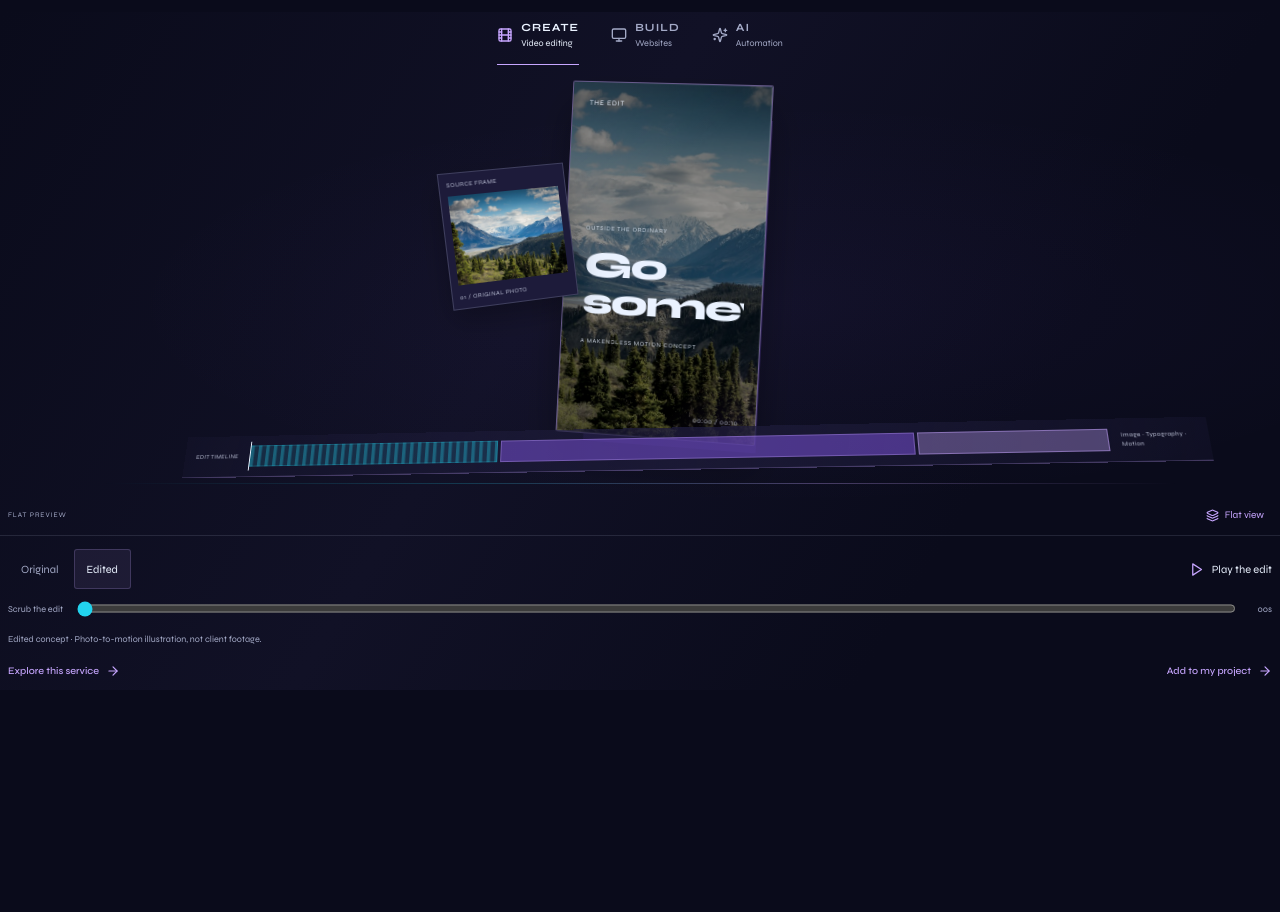
Living Showcase: service-led interactions and fallbacks › plays, pauses and scrubs a photo-to-motion concept without claiming client footage
Click the button with aria-label "Play motion preview" at (1224, 569), box [1177,549,1272,589]
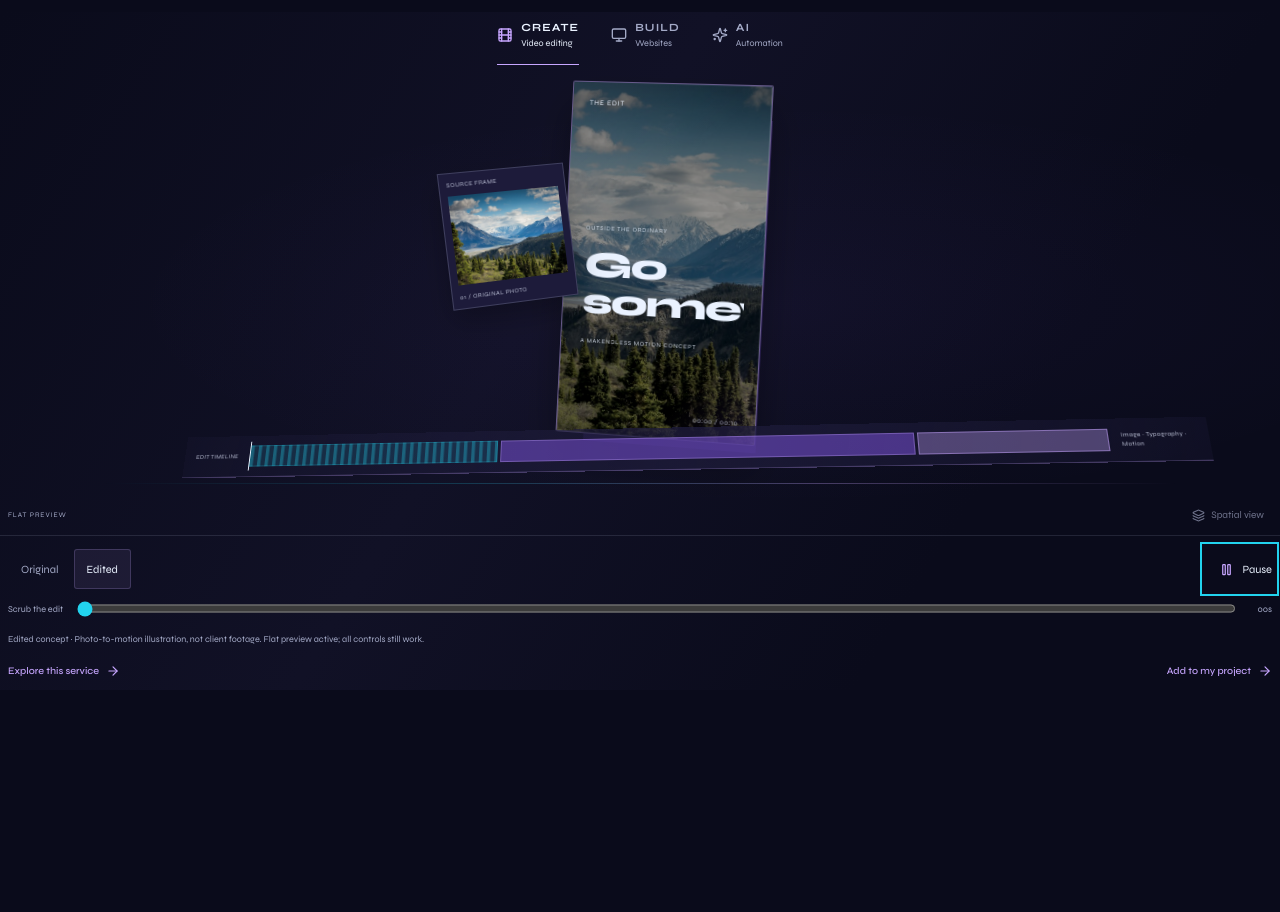
Expected: the button with aria-label "Pause motion preview" is shown
Click the button with aria-label "Pause motion preview" at (1240, 569), box [1208,549,1272,589]
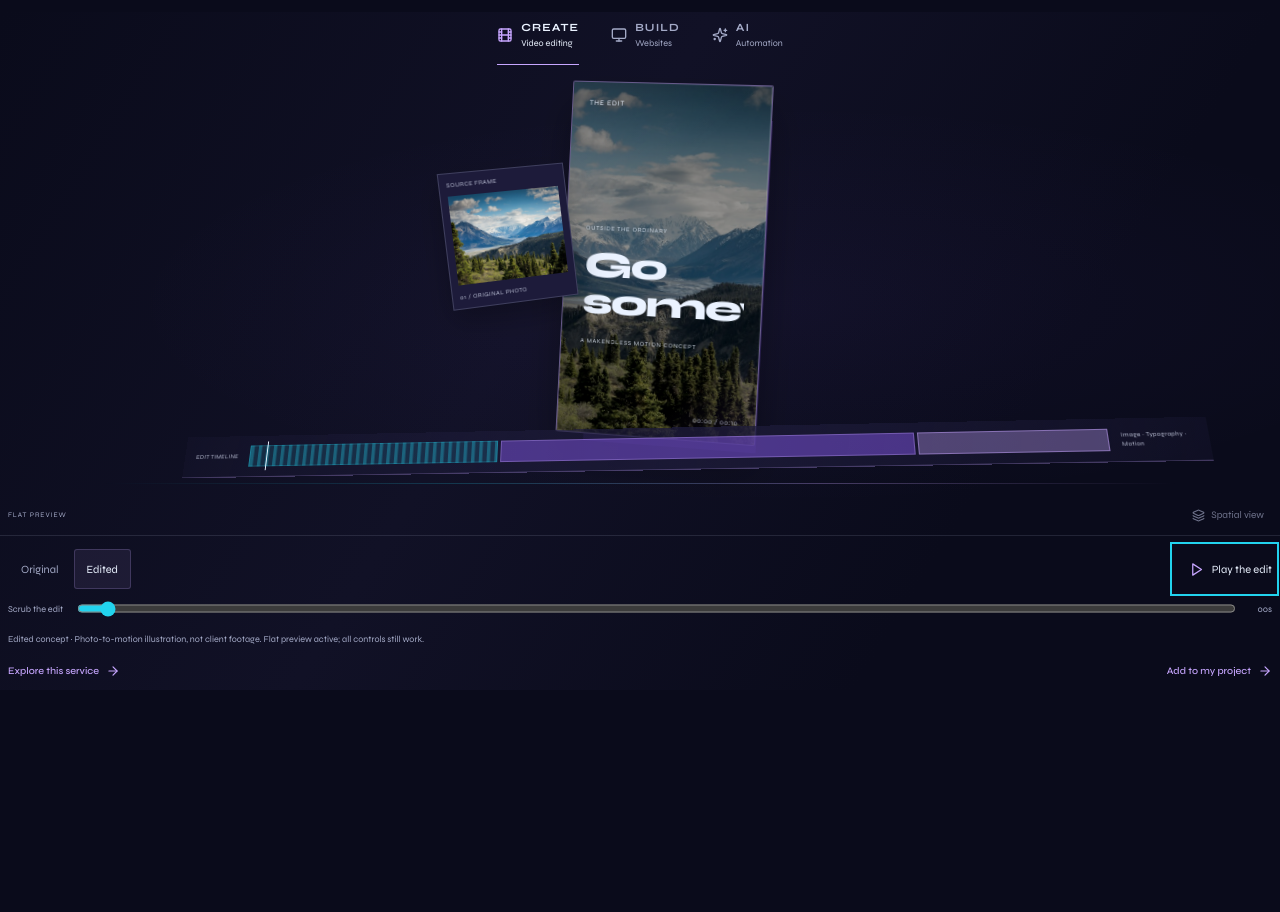
Set the slider named "Edit timeline" to "50" at (657, 608), box [77,596,1236,621]
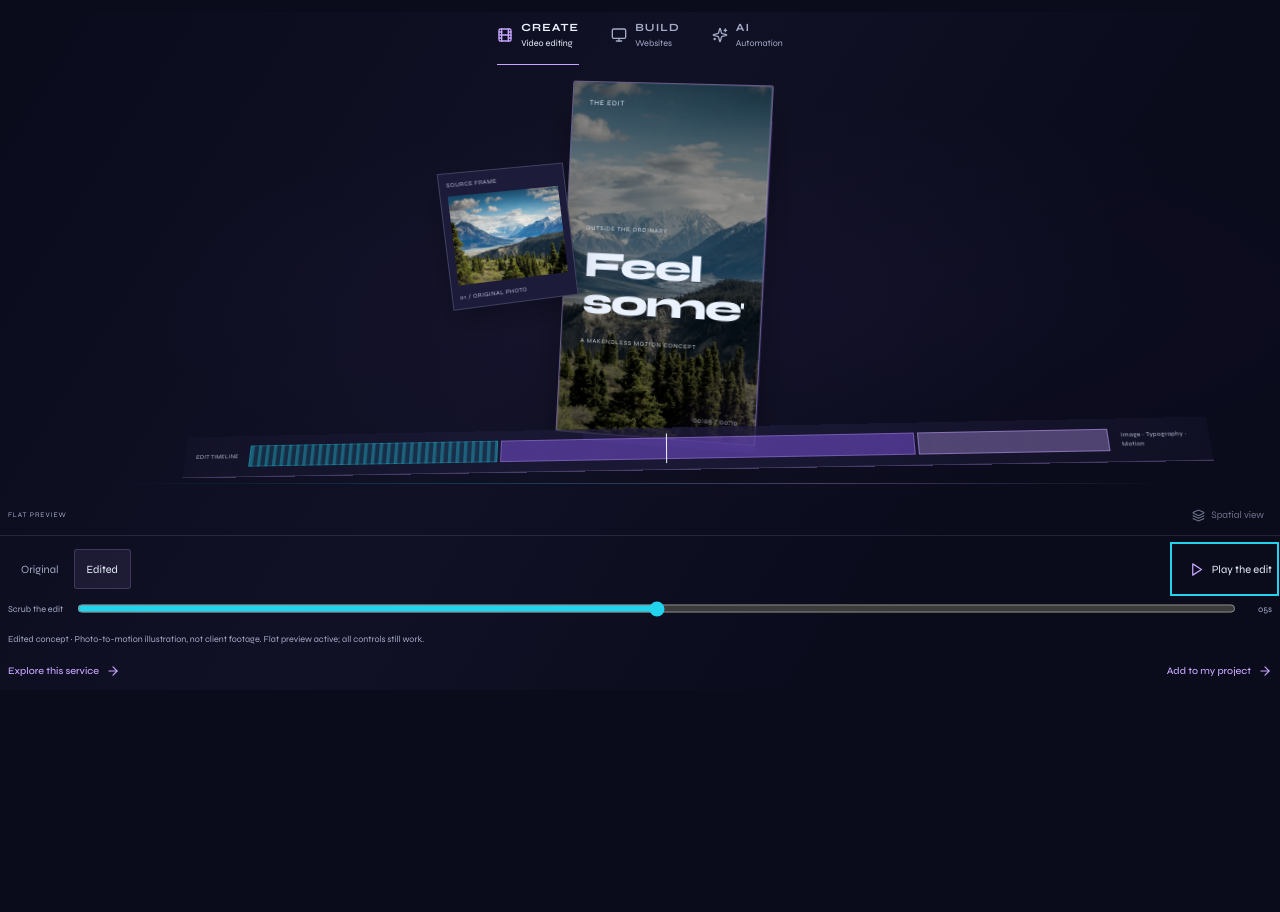
Expected: the message named "Showcase feedback" shows "not client footage", [8,634,262,644]
Expected: the heading "Feel something." is shown, [581,246,746,327]
